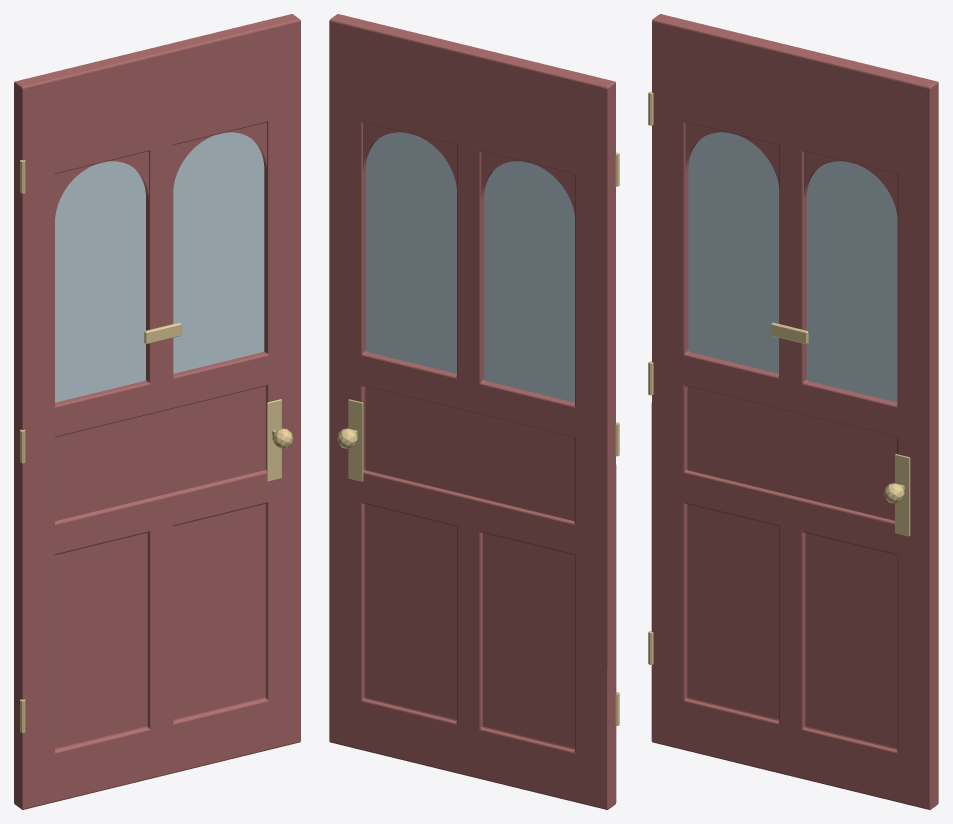
Rendered from door_leaf_front_a.glb.
3 renders of one model, left to right at view 1: azimuth 30°, elevation 25°; view 2: azimuth 150°, elevation 25°; view 3: azimuth 330°, elevation 25°, orthographic.
Visible parts, largest first — view 1: door_leaf_front_a_door_a, door_leaf_front_a_glass, door_leaf_front_a_brass; view 2: door_leaf_front_a_door_a, door_leaf_front_a_glass, door_leaf_front_a_brass; view 3: door_leaf_front_a_door_a, door_leaf_front_a_glass, door_leaf_front_a_brass.
Part boxes in pixels (x1=…): door_leaf_front_a_door_a: x1=14, y1=14, x2=300, y2=809; door_leaf_front_a_glass: x1=55, y1=132, x2=264, y2=402; door_leaf_front_a_brass: x1=20, y1=160, x2=293, y2=732; door_leaf_front_a_door_a: x1=329, y1=14, x2=616, y2=809; door_leaf_front_a_glass: x1=366, y1=132, x2=574, y2=402; door_leaf_front_a_brass: x1=337, y1=152, x2=619, y2=725; door_leaf_front_a_door_a: x1=651, y1=14, x2=938, y2=809; door_leaf_front_a_glass: x1=688, y1=132, x2=897, y2=402; door_leaf_front_a_brass: x1=648, y1=91, x2=910, y2=664.
Size of the model in its own units: 0.928 by 2.28 by 0.21.
